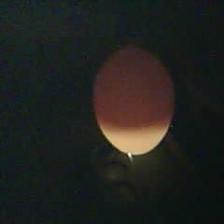fertile: (93, 44, 176, 156)
